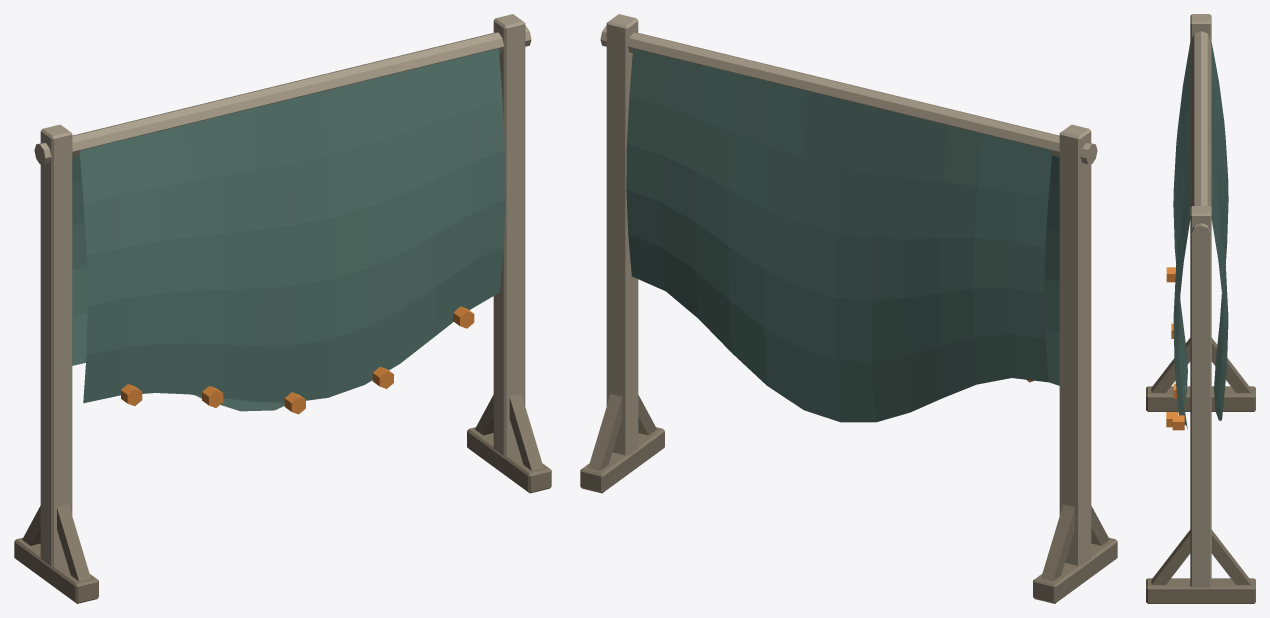
Rendered from net-rack.glb.
3 views of the same model, side by side, from view 1: azimuth 30°, elevation 25°; view 2: azimuth 150°, elevation 25°; view 3: azimuth 270°, elevation 25° (orthographic). The views are drawn at different scales.
Visible parts, largest first — view 1: net-rack; view 2: net-rack; view 3: net-rack.
Boxes of the visible parts, x1,y1,x2,y2 form: net-rack: (14,14,551,603); net-rack: (580,14,1117,603); net-rack: (1146,14,1255,603).
Size of the model in its own units: 2.04 by 1.8 by 0.46.
